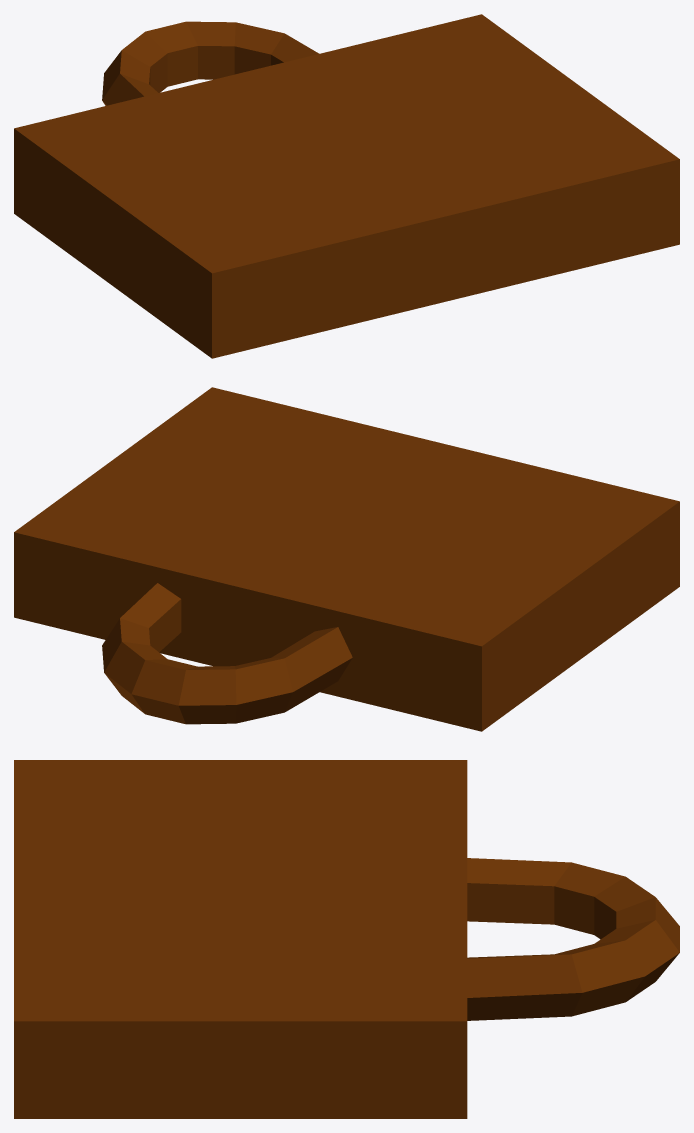
The model's file is briefcase.fbx.
3 views of the same model, one above another, from view 1: azimuth 30°, elevation 25°; view 2: azimuth 150°, elevation 25°; view 3: azimuth 270°, elevation 25° (orthographic). The views are drawn at different scales.
Parts seen in each view (by area): view 1: Torus; view 2: Torus; view 3: Torus.
Boxes of the visible parts, left/top/right/bottom form: Torus: left=14, top=14, right=679, bottom=358; Torus: left=14, top=387, right=679, bottom=731; Torus: left=14, top=760, right=679, bottom=1118.
Size of the model in its own units: 429 by 74.74 by 462.
